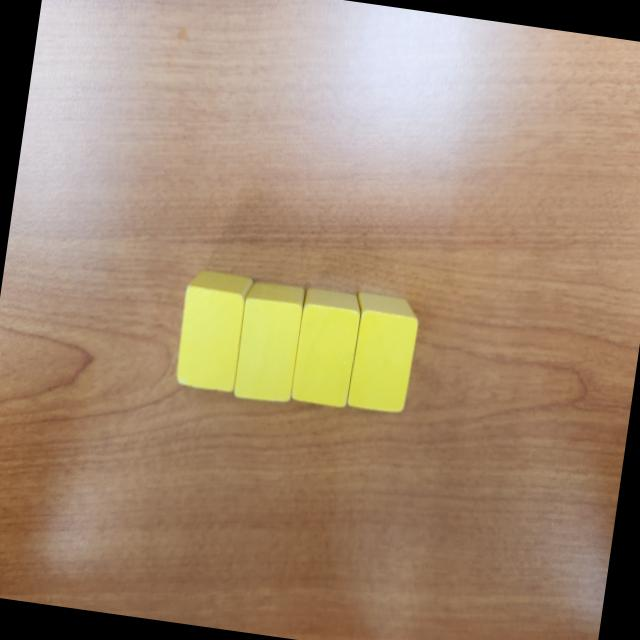yellow: (172, 266, 254, 394), (340, 293, 422, 417), (232, 279, 308, 406), (289, 287, 364, 409)
